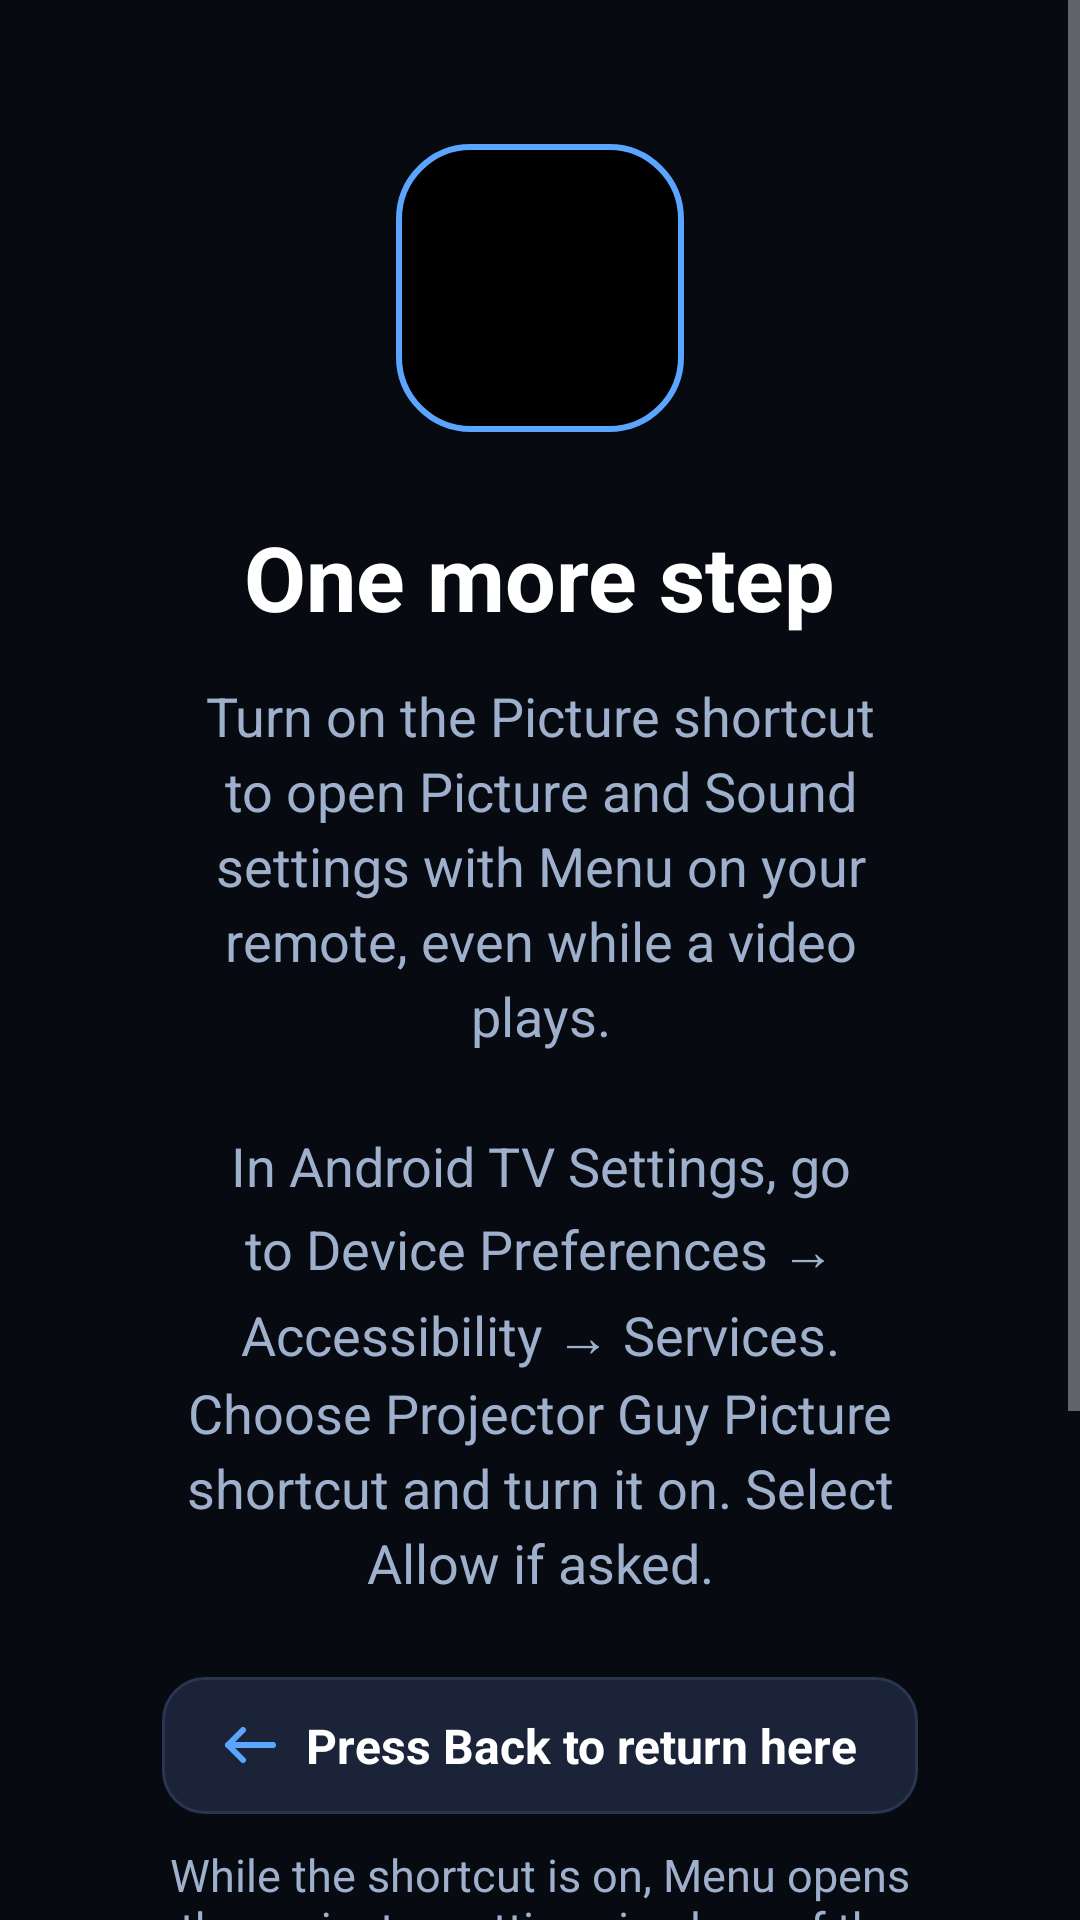

Icons on this 1080px×1920px Android screen, each with its box as (x1,y1,x2,y2):
back hint arrow: (225,1727,276,1763)
